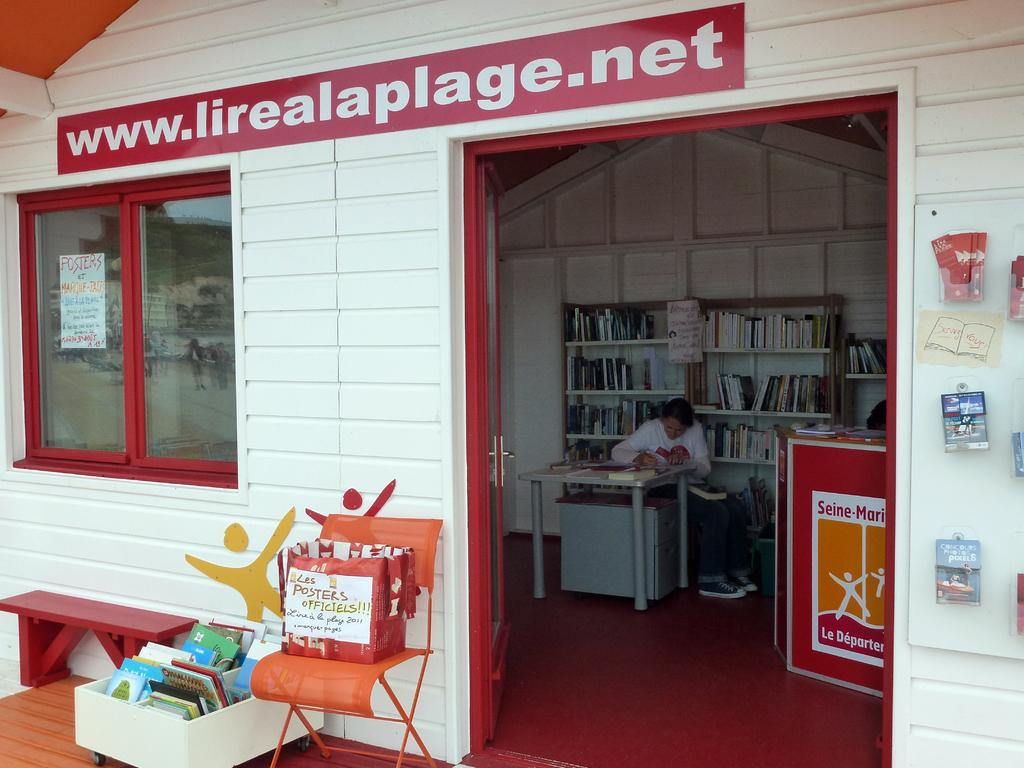Chair: (234, 529, 416, 768)
